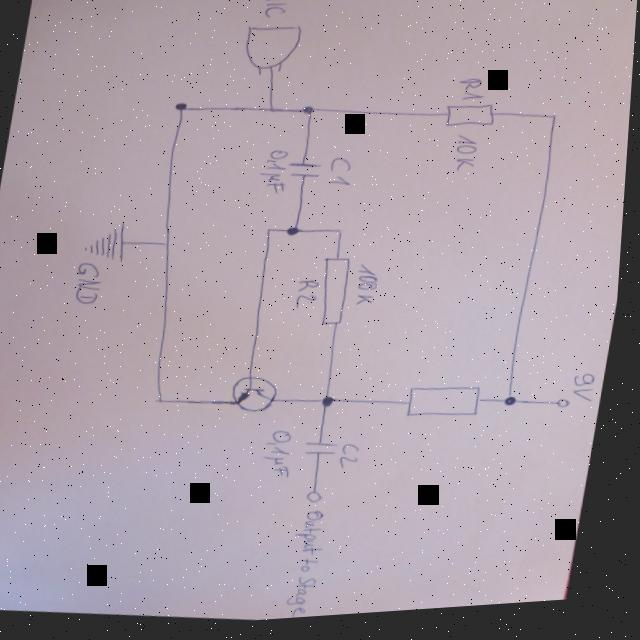capacitor: (287, 158, 328, 185), (308, 439, 347, 464)
ground: (85, 218, 136, 265)
junction: (323, 395, 345, 414), (300, 105, 321, 124), (173, 100, 195, 117), (508, 398, 526, 415), (288, 227, 308, 241), (337, 230, 351, 240), (268, 106, 282, 116), (165, 240, 178, 250), (160, 397, 171, 405), (552, 119, 562, 127), (268, 229, 278, 236)
resistor: (411, 383, 490, 429), (318, 258, 358, 331), (445, 104, 500, 137)
terminal: (312, 490, 333, 508), (561, 403, 578, 416)
text: (289, 510, 340, 623), (266, 429, 305, 483), (75, 259, 111, 308), (260, 148, 295, 197), (356, 265, 387, 312), (454, 136, 485, 180), (298, 279, 326, 313), (458, 80, 490, 109), (577, 378, 605, 411), (331, 158, 359, 191), (259, 0, 295, 22), (345, 445, 369, 473)
transistor: (234, 373, 288, 420)
